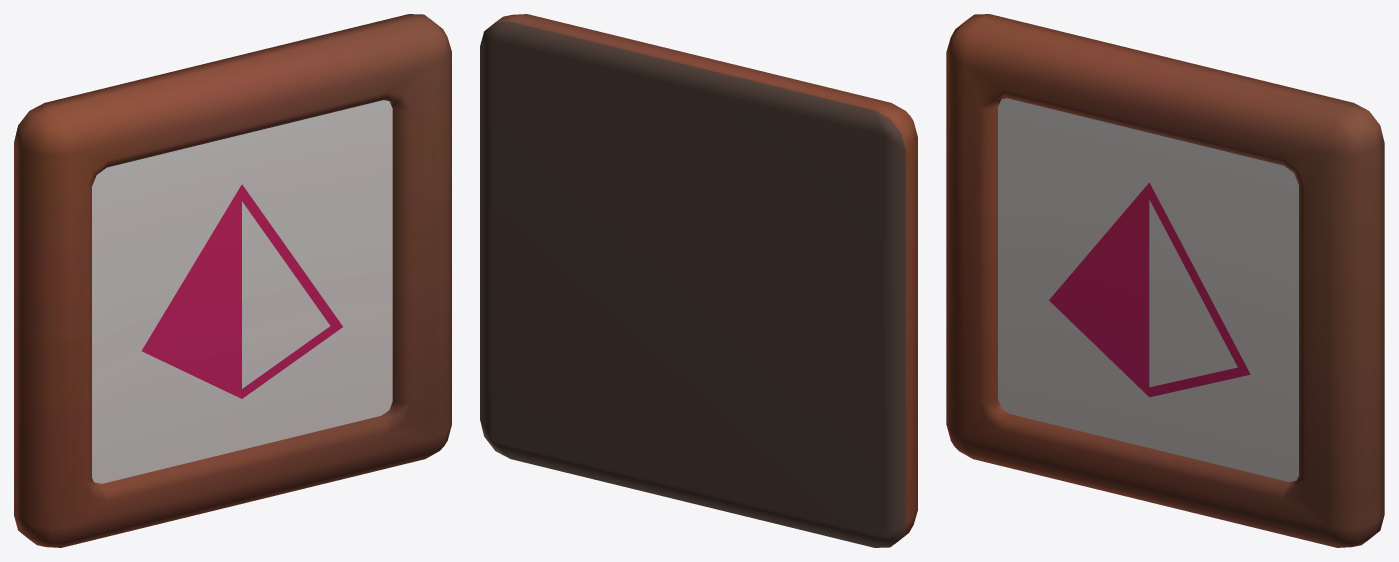
Rendered from picture_069.glb.
The picture shows the model from 3 angles, left to right: view 1: azimuth 30°, elevation 25°; view 2: azimuth 150°, elevation 25°; view 3: azimuth 330°, elevation 25°; orthographic projection.
Visible parts, largest first — view 1: Picture_21; view 2: Picture_21; view 3: Picture_21.
Part boxes in pixels (box(x1,y1,x2,y2)): Picture_21: box(14, 14, 451, 547); Picture_21: box(480, 14, 917, 547); Picture_21: box(946, 14, 1384, 547).
Size of the model in its own units: 0.4773 by 0.4687 by 0.0585.
1 material, 1 textured.
